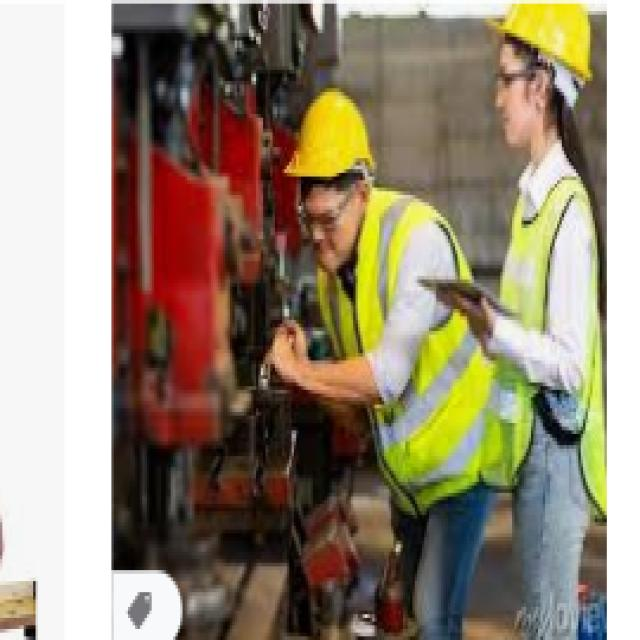glasses: (296, 202, 346, 240), (492, 59, 540, 96)
